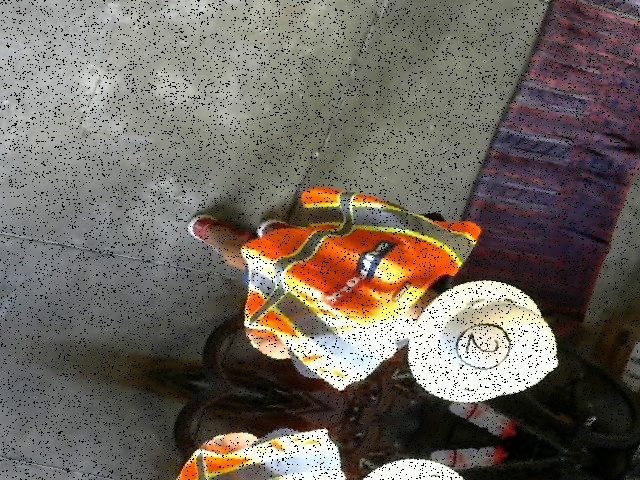two: (447, 318, 521, 375)
